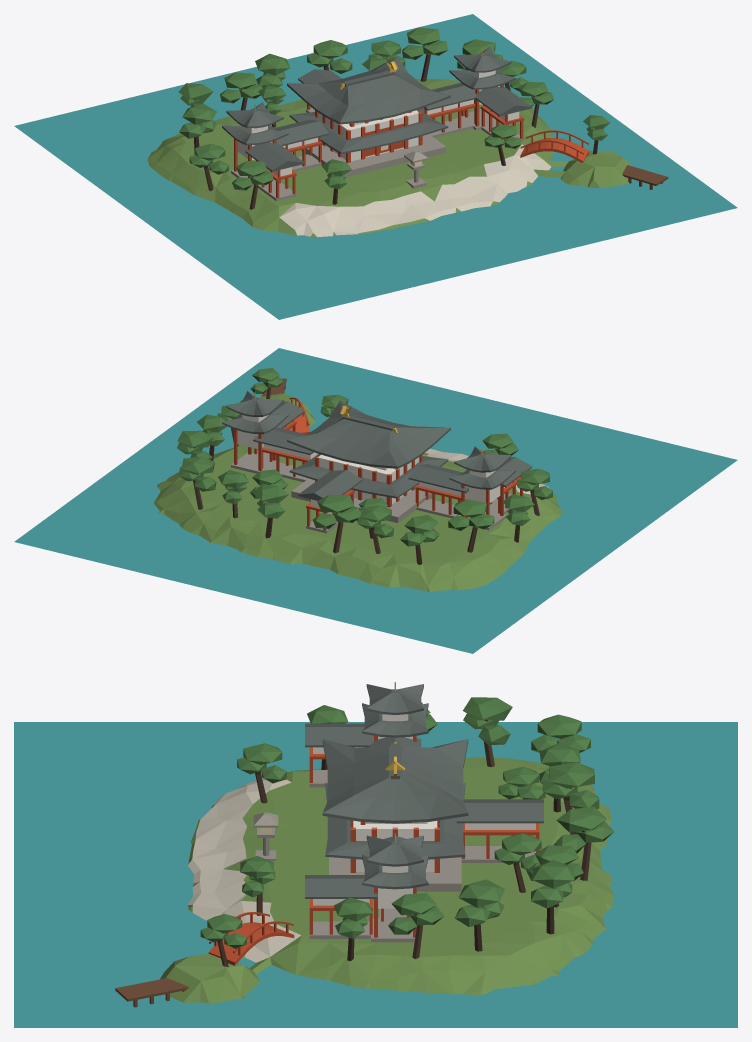
File: byodo-in.glb
The picture shows the model from 3 angles, top to bottom: view 1: azimuth 30°, elevation 25°; view 2: azimuth 150°, elevation 25°; view 3: azimuth 270°, elevation 25°; orthographic projection. The views are drawn at different scales.
Visible parts, largest first — view 1: byodo_water, byodo_grass, byodo_roof, byodo_foliage, byodo_pebble, byodo_red, byodo_stone, byodo_white, byodo_bark, byodo_wood; view 2: byodo_water, byodo_grass, byodo_roof, byodo_foliage, byodo_red, byodo_stone, byodo_white, byodo_bark; view 3: byodo_water, byodo_grass, byodo_roof, byodo_foliage, byodo_pebble, byodo_stone, byodo_red, byodo_white, byodo_bark, byodo_wood.
Part boxes in pixels (bbox=[...]): byodo_water: bbox=[14, 14, 737, 319]; byodo_grass: bbox=[147, 78, 632, 236]; byodo_roof: bbox=[222, 46, 531, 171]; byodo_foliage: bbox=[178, 27, 610, 190]; byodo_pebble: bbox=[279, 144, 551, 236]; byodo_red: bbox=[234, 84, 588, 198]; byodo_stone: bbox=[231, 108, 524, 201]; byodo_white: bbox=[237, 70, 519, 176]; byodo_bark: bbox=[194, 45, 598, 209]; byodo_wood: bbox=[622, 165, 668, 189]; byodo_water: bbox=[14, 348, 737, 653]; byodo_grass: bbox=[153, 393, 562, 591]; byodo_roof: bbox=[222, 391, 531, 500]; byodo_foliage: bbox=[177, 368, 552, 546]; byodo_red: bbox=[234, 397, 523, 530]; byodo_stone: bbox=[231, 425, 511, 533]; byodo_white: bbox=[237, 415, 504, 507]; byodo_bark: bbox=[193, 381, 539, 564]; byodo_water: bbox=[14, 722, 737, 1027]; byodo_grass: bbox=[160, 757, 614, 1003]; byodo_roof: bbox=[305, 684, 543, 898]; byodo_foliage: bbox=[200, 697, 614, 948]; byodo_pebble: bbox=[188, 778, 300, 962]; byodo_stone: bbox=[253, 770, 535, 942]; byodo_red: bbox=[208, 735, 539, 965]; byodo_white: bbox=[313, 714, 535, 908]; byodo_bark: bbox=[217, 720, 591, 967]; byodo_wood: bbox=[115, 978, 188, 1007].
Size of the model in its own units: 22.4 by 4.89 by 22.4.
